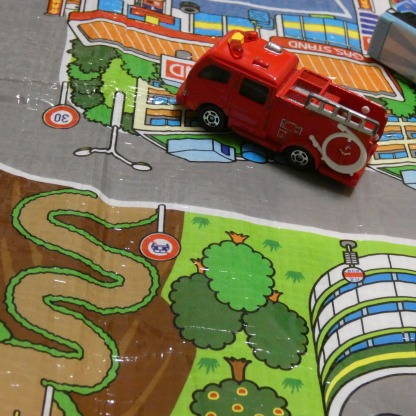car: (174, 27, 386, 189)
